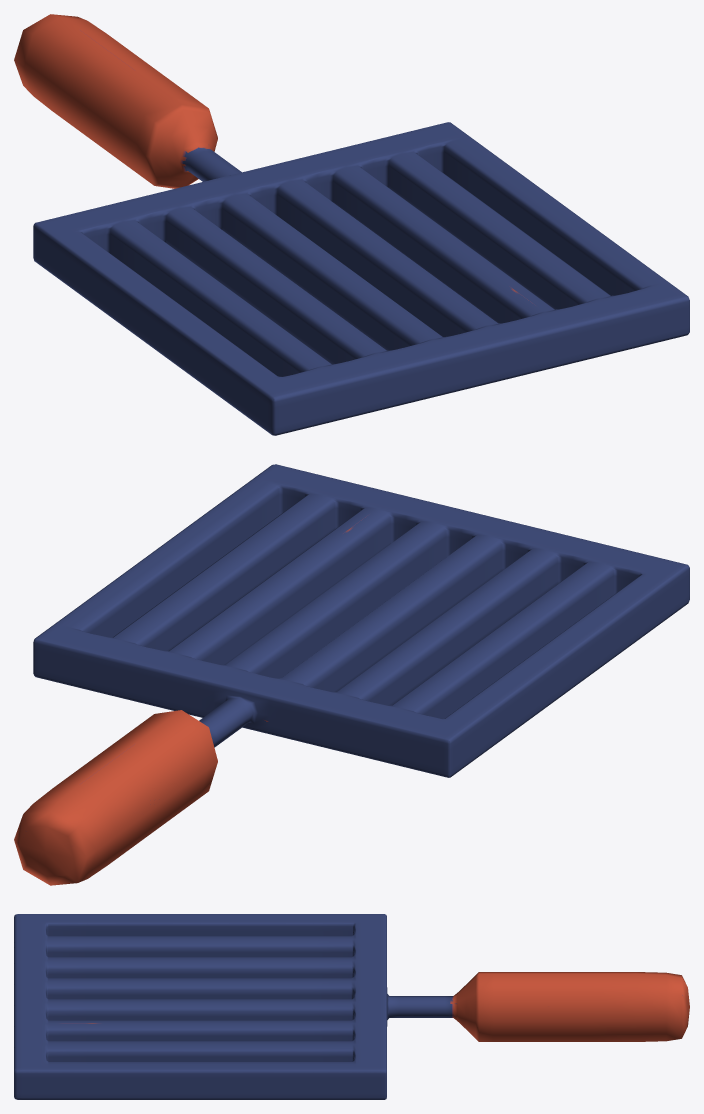
File: Grill.fbx
3 views of the same model, one above another, from view 1: azimuth 30°, elevation 25°; view 2: azimuth 150°, elevation 25°; view 3: azimuth 270°, elevation 25° (orthographic). The views are drawn at different scales.
Visible parts, largest first — view 1: pCube31; view 2: pCube31; view 3: pCube31.
Part boxes in pixels (x1,y1,x2,y2): pCube31: (14,14,689,435); pCube31: (14,464,689,885); pCube31: (14,914,689,1099).
Bounding box in the file's own units: 40.17 × 7.85 × 72.8.
1 material, 1 textured.
